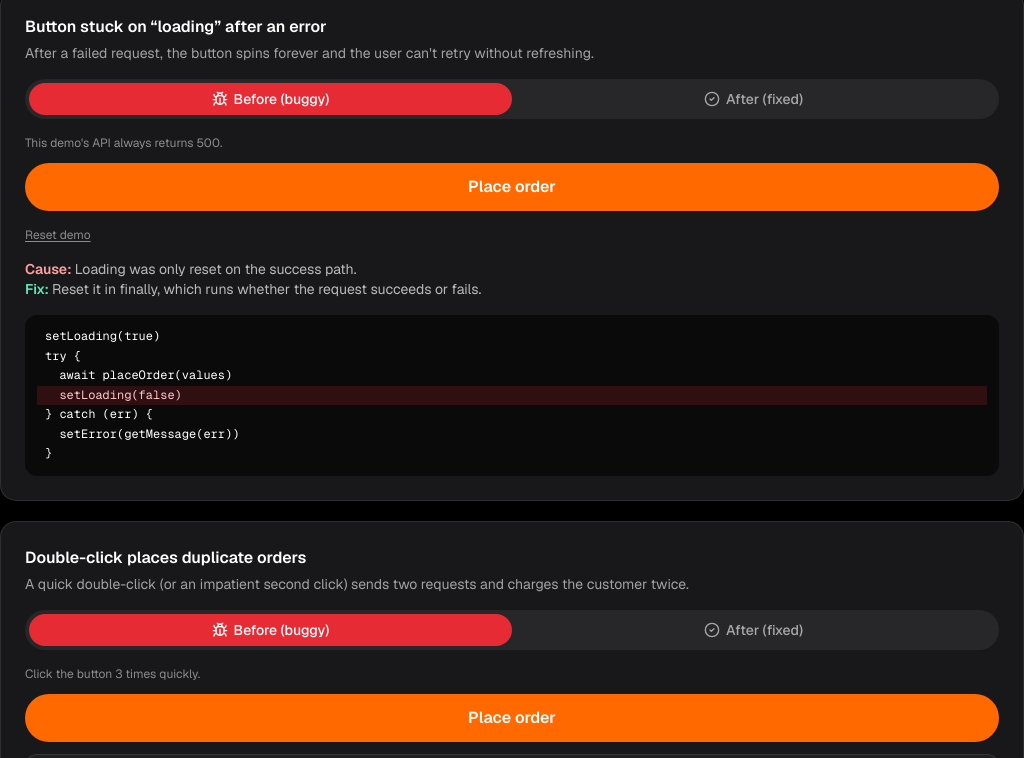
Test case: Bug: double submit › fixed version creates exactly one order
Click the radio button labelled "After (fixed)" below "Double-click places duplicate orders" at (754, 630), box x1=512 y1=614 x2=995 y2=646
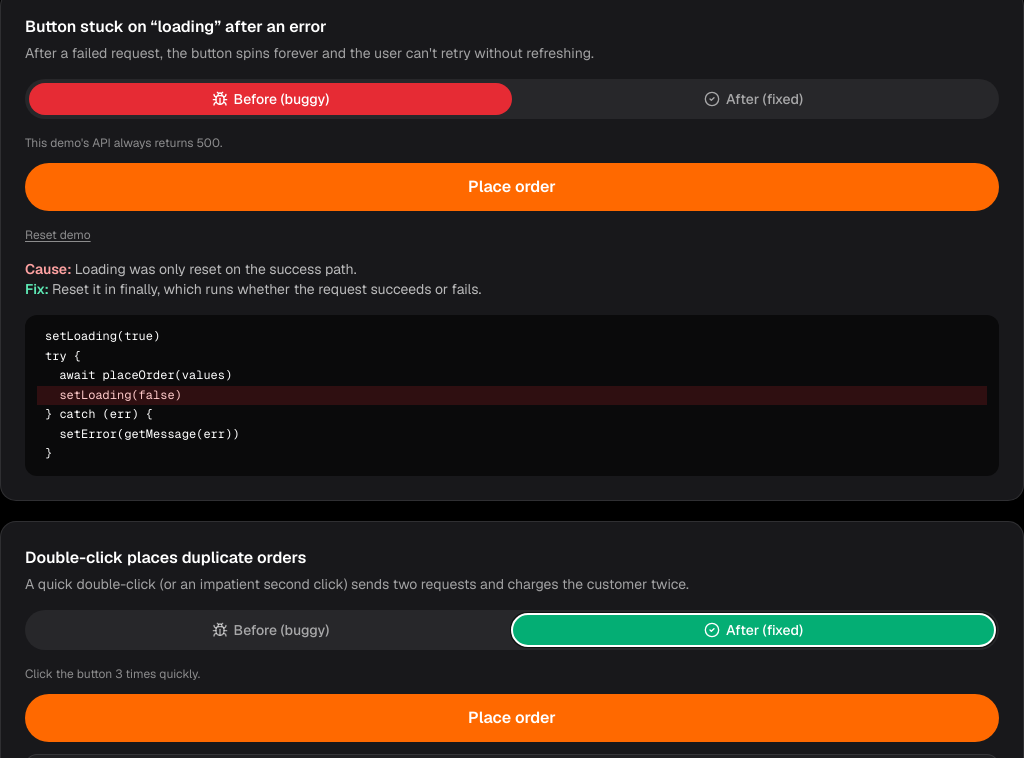
Click the button "Place order" below "Click the button 3 times quickly." at (512, 718), box x1=25 y1=694 x2=999 y2=742
(page scrolled)
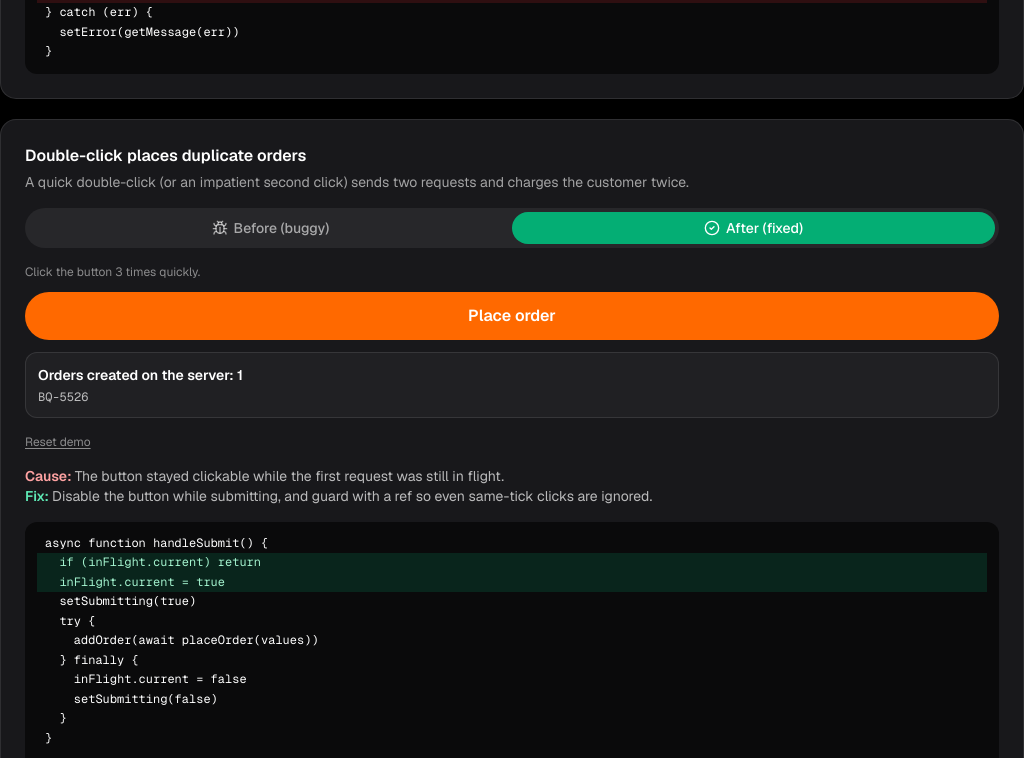
Expected: the button "Place order" is enabled, x1=25 y1=292 x2=999 y2=340
Expected: the text with test id "order-count" reads "1", x1=237 y1=366 x2=243 y2=384
